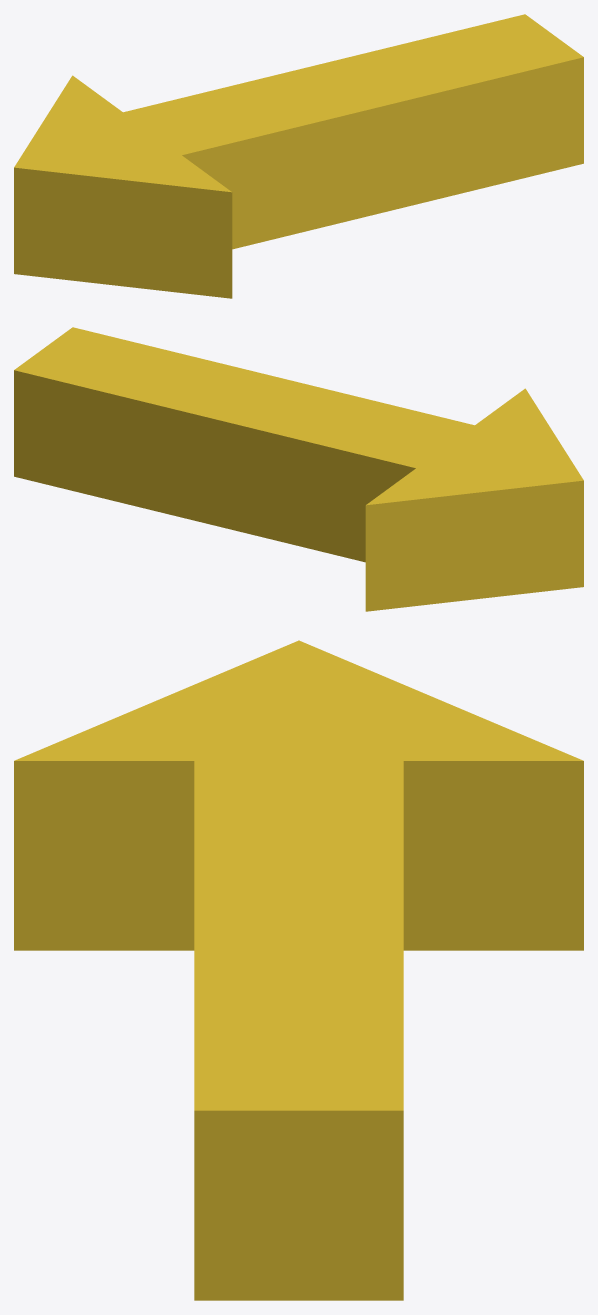
Rendered from directional_arrow.glb.
3 renders of one model, top to bottom at view 1: azimuth 30°, elevation 25°; view 2: azimuth 150°, elevation 25°; view 3: azimuth 270°, elevation 25°, orthographic. The views are drawn at different scales.
Parts seen in each view (by area): view 1: Arrow; view 2: Arrow; view 3: Arrow.
Part boxes in pixels (bbox=[...]): Arrow: bbox=[14, 14, 583, 298]; Arrow: bbox=[14, 327, 583, 611]; Arrow: bbox=[14, 640, 583, 1300].
Bounding box in the file's own units: 2.66 × 0.5 × 1.36.
